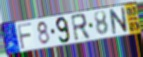8: (94, 10, 109, 37), (36, 21, 51, 46)
9: (55, 16, 71, 44)
F: (16, 22, 33, 51)
N: (108, 6, 129, 36)
R: (69, 13, 91, 43)
